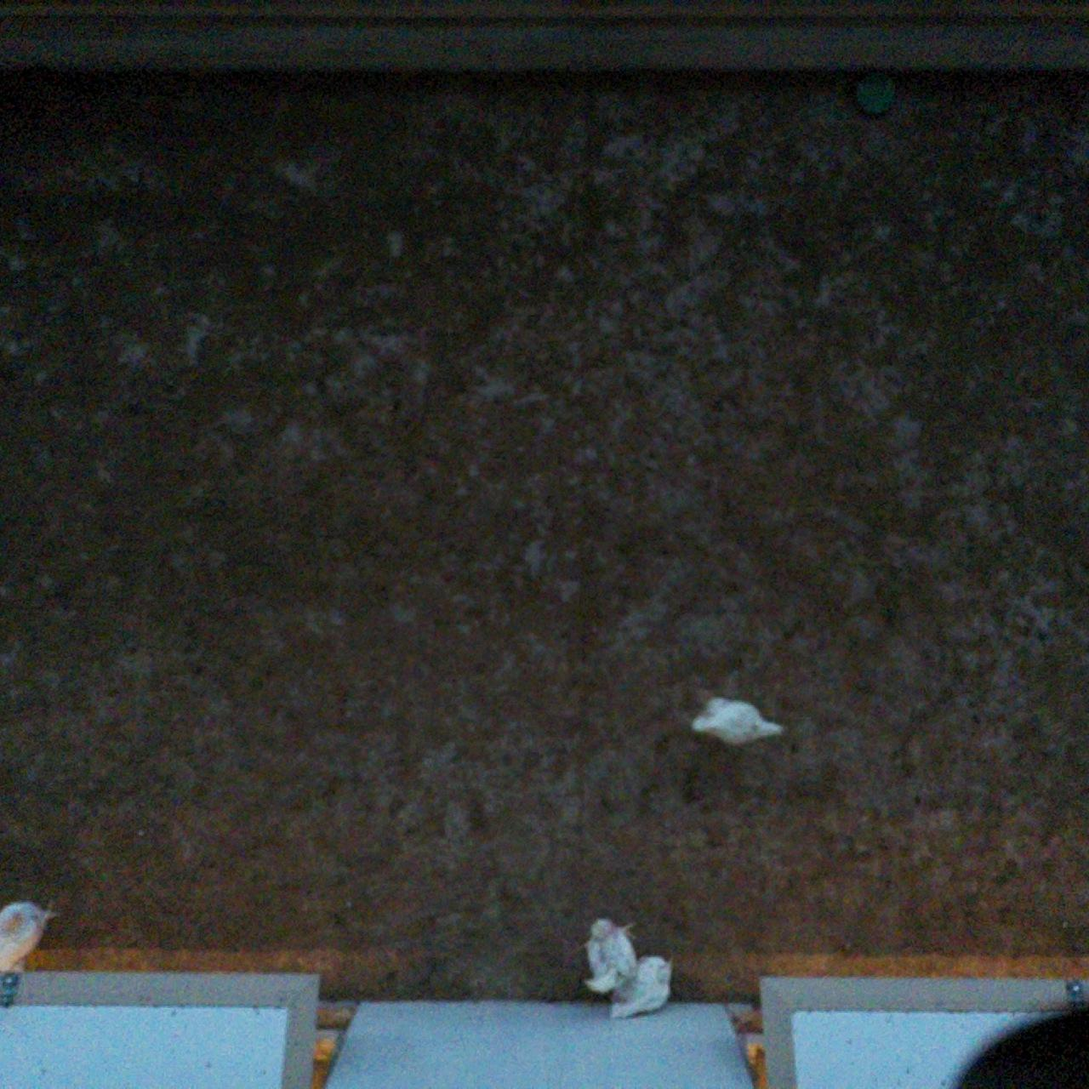chicken: (688, 691, 788, 754), (571, 913, 645, 998), (0, 890, 64, 979), (604, 946, 678, 1022)
